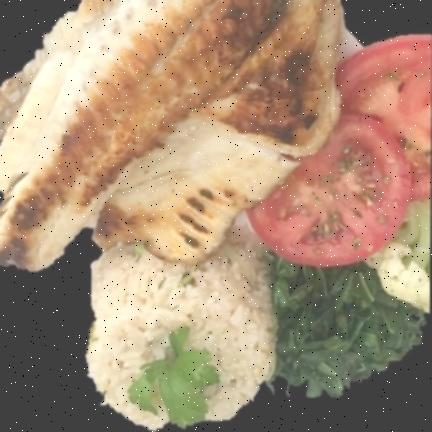fish: (0, 0, 342, 270)
green_vegetables: (269, 199, 430, 396)
rice: (86, 241, 275, 429)
tomato: (246, 36, 431, 266)
